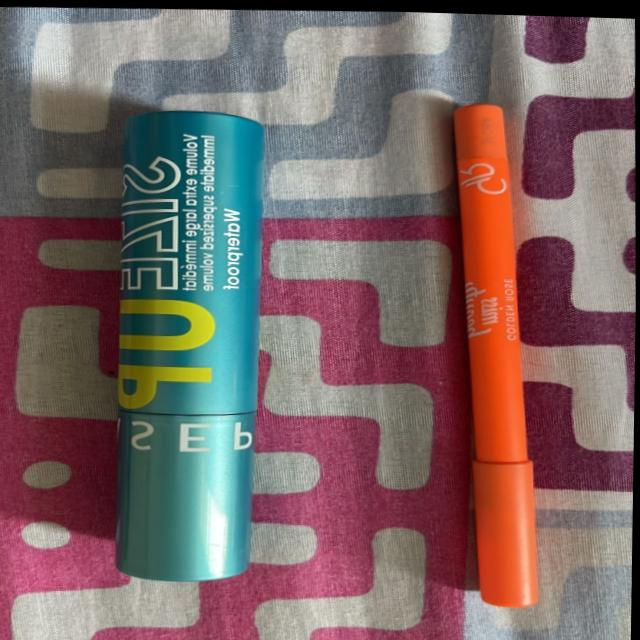eye liner: (416, 75, 587, 624)
lip stick: (47, 93, 316, 606)
